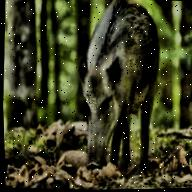boar: (70, 0, 166, 177)
